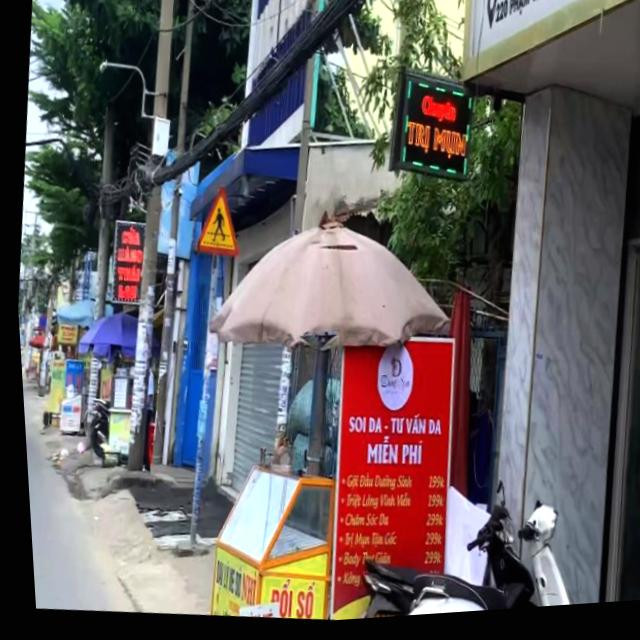Nguoi di bo cat ngang: (187, 182, 244, 266)
